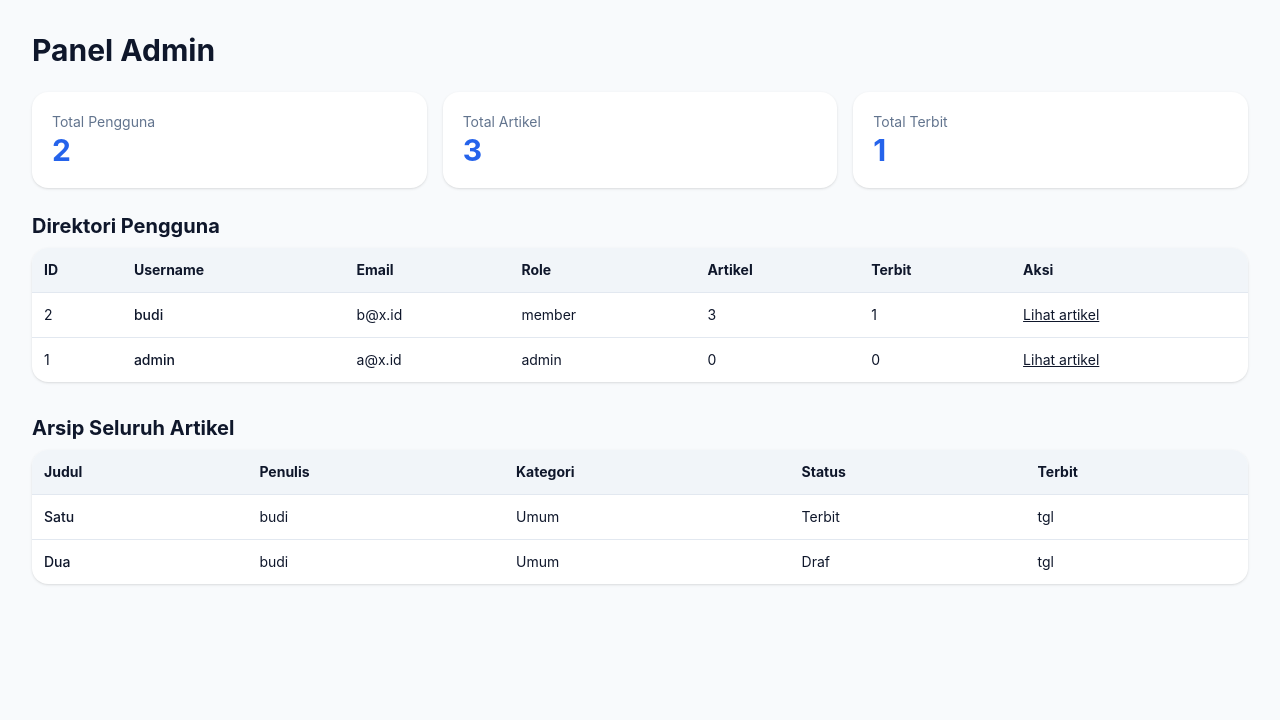
Test: AdminDashboard › statistik, direktori, filter per pengguna, dan tampilkan semua
Expected: the text "Satu" is shown, [32, 494, 247, 540]
Expected: the text "2" is shown, [52, 132, 71, 168]
Click the button with aria-label "Artikel budi".
click(1061, 315)  # box [1023, 305, 1099, 325]
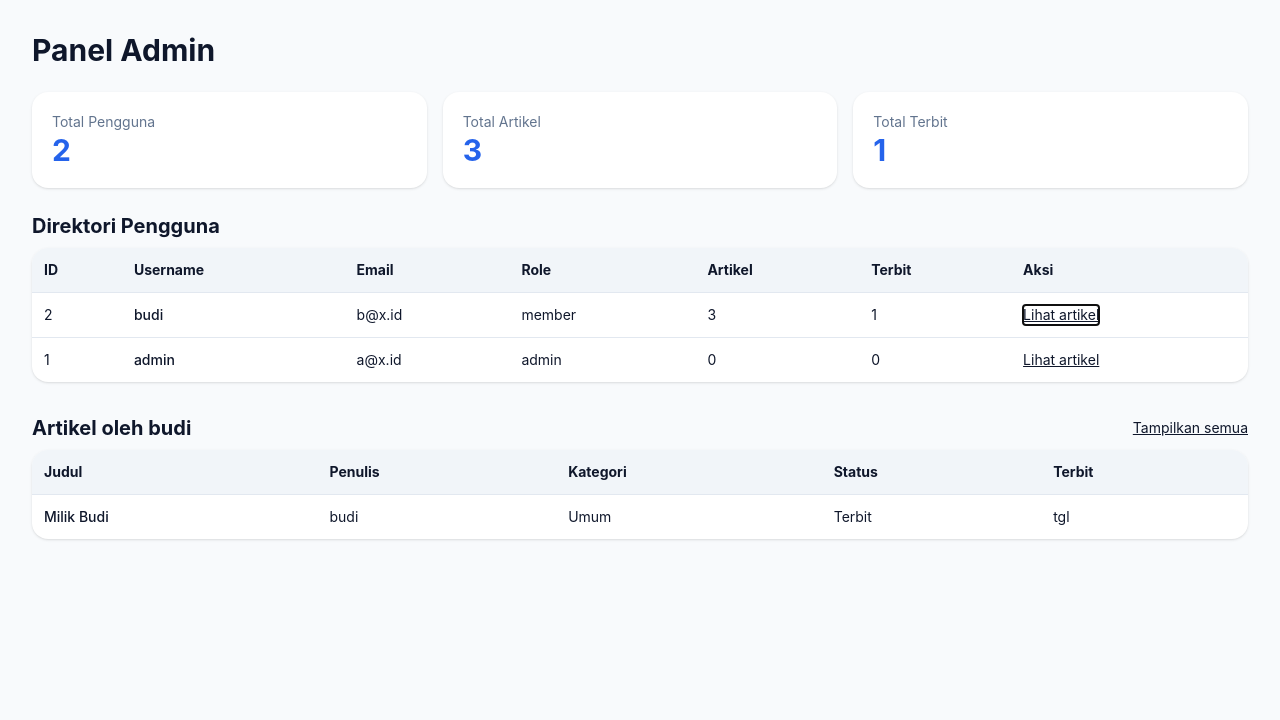
Result: the heading "Artikel oleh budi" is shown at [32, 414, 191, 442]
Result: the text "Milik Budi" is shown at [32, 494, 318, 539]
Click the button "Tampilkan semua".
click(1190, 428)  # box [1133, 418, 1248, 438]
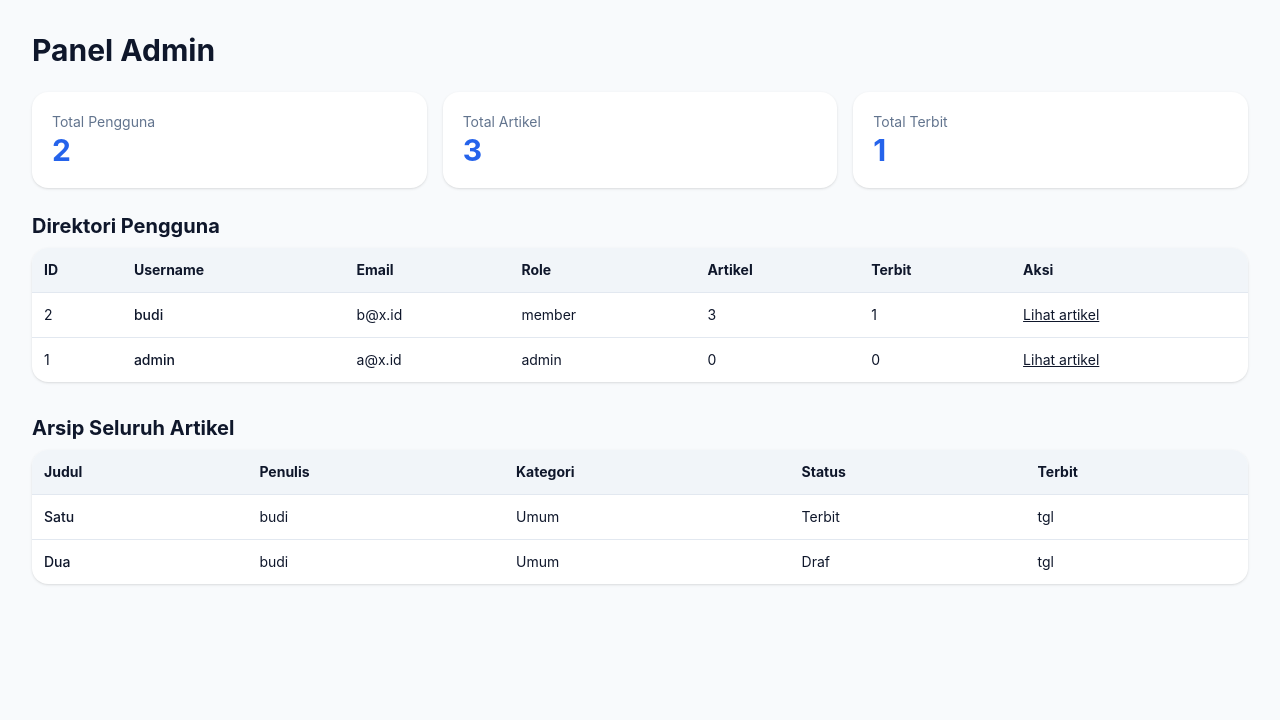
Result: the text "Satu" is shown at [32, 494, 247, 540]
Result: the heading "Artikel oleh budi" is gone
